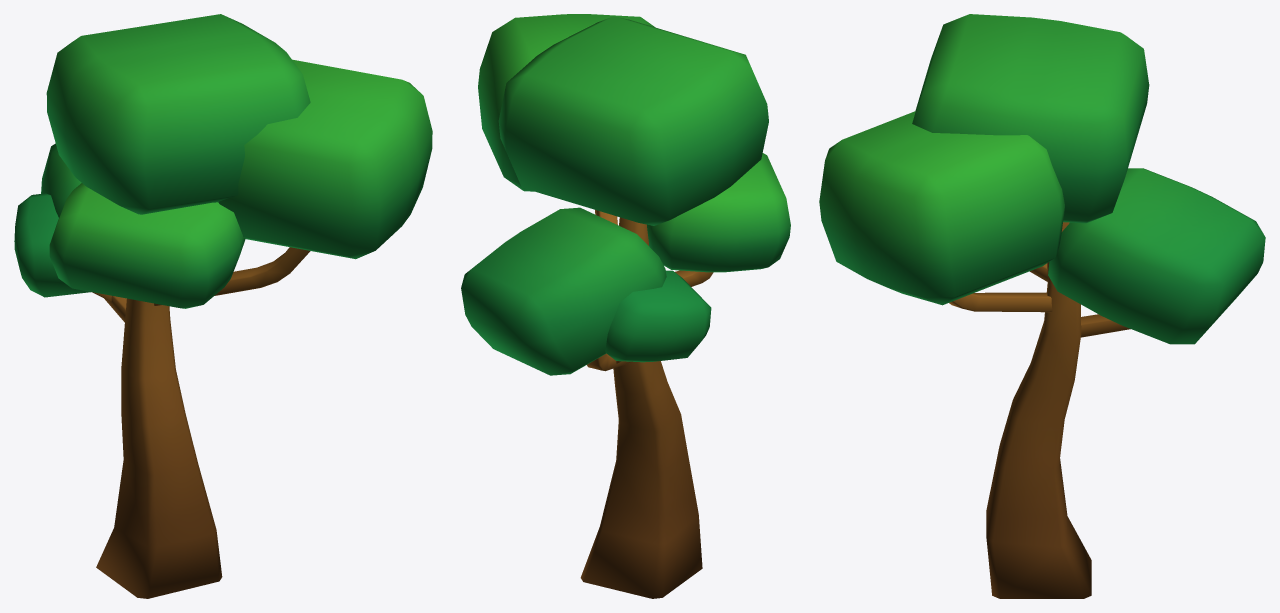
Rendered from Tree_1_1.obj.
3 views of the same model, side by side, from view 1: azimuth 30°, elevation 25°; view 2: azimuth 150°, elevation 25°; view 3: azimuth 270°, elevation 25° (orthographic). The views are drawn at different scales.
Parts seen in each view (by area): view 1: Tree_1_1; view 2: Tree_1_1; view 3: Tree_1_1.
Part boxes in pixels (x1,y1,x2,y2): Tree_1_1: [14, 14, 432, 598]; Tree_1_1: [461, 14, 790, 598]; Tree_1_1: [819, 14, 1265, 598].
Size of the model in its own units: 2.51 by 3.71 by 2.8.
